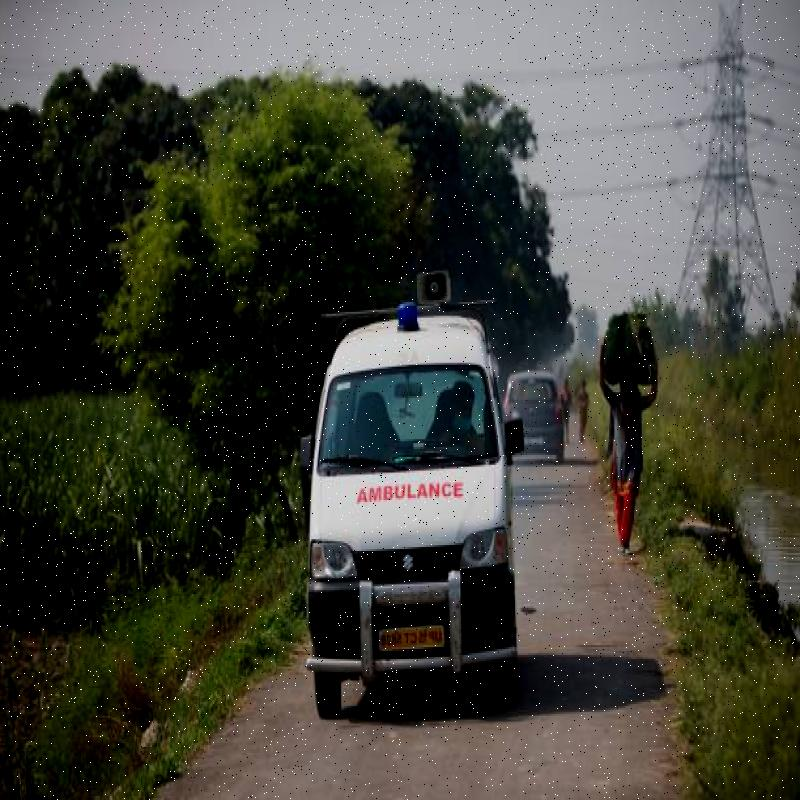ambulance: (276, 275, 530, 696)
